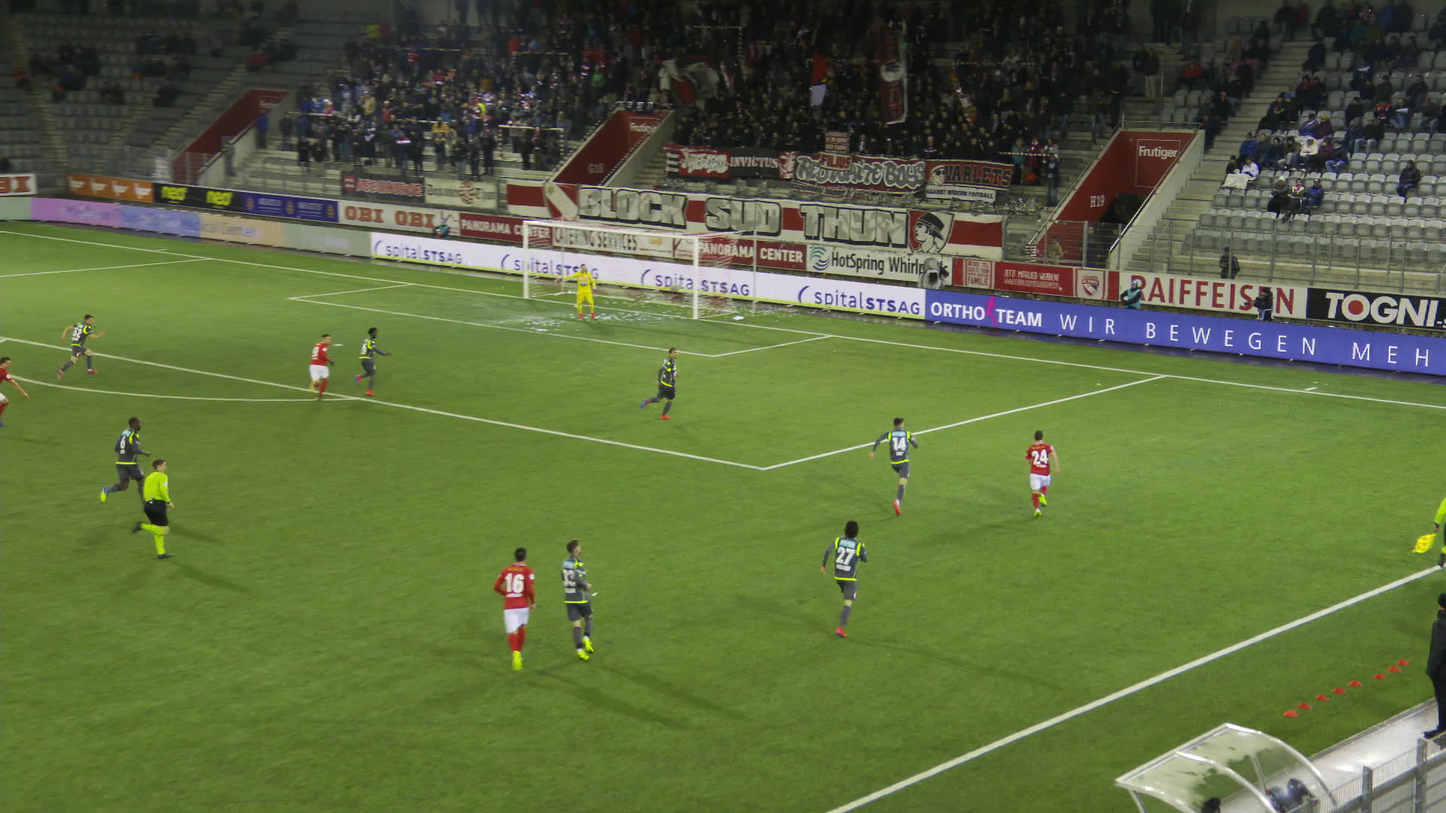player: (493, 541, 541, 677), (820, 518, 868, 635), (559, 537, 604, 659), (93, 415, 150, 510), (870, 417, 918, 513), (636, 346, 687, 420), (1020, 429, 1059, 516), (58, 314, 106, 382), (354, 324, 392, 396), (556, 261, 601, 319), (307, 330, 339, 400), (0, 353, 31, 420)
referee: (120, 455, 183, 562), (1410, 495, 1445, 568)
